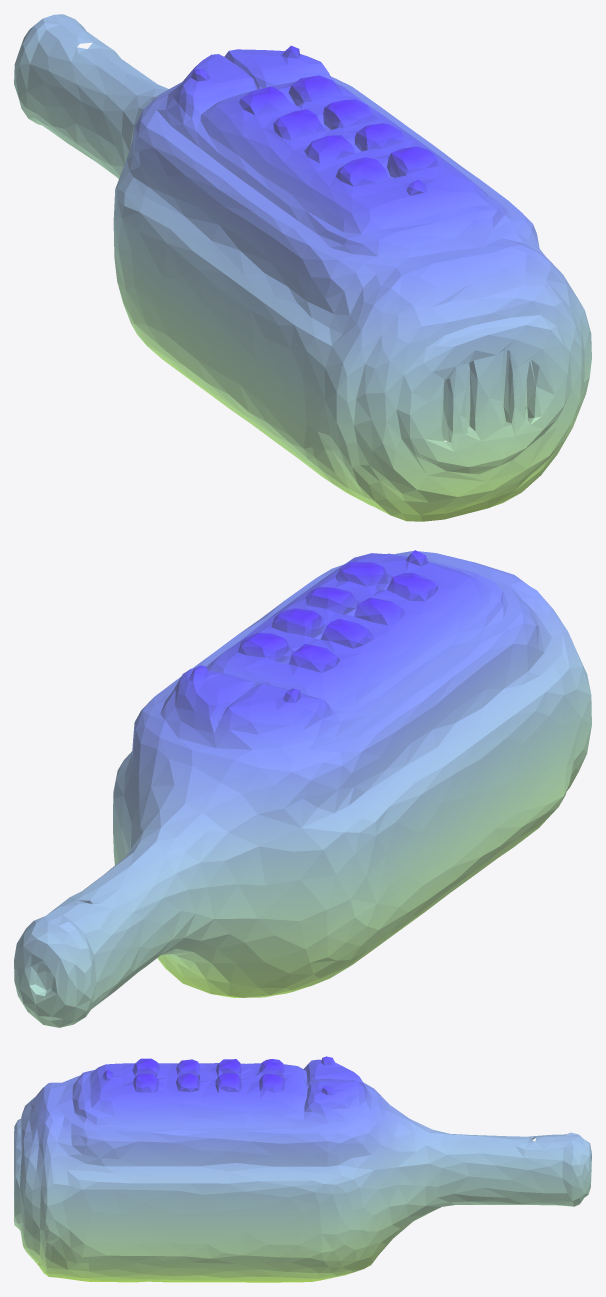
Rendered from 109_cyb_laser_gradient_fish_scales_2975_2026_10_03_f6c524.glb.
3 views of the same model, one above another, from view 1: azimuth 30°, elevation 25°; view 2: azimuth 150°, elevation 25°; view 3: azimuth 270°, elevation 25° (orthographic). The views are drawn at different scales.
Visible parts, largest first — view 1: geometry_0; view 2: geometry_0; view 3: geometry_0.
Boxes of the visible parts, box(x1,y1,x2,y2) form: geometry_0: box(14, 14, 591, 521); geometry_0: box(14, 550, 591, 1027); geometry_0: box(14, 1056, 591, 1282).
Size of the model in its own units: 0.3345 by 0.3859 by 1.
